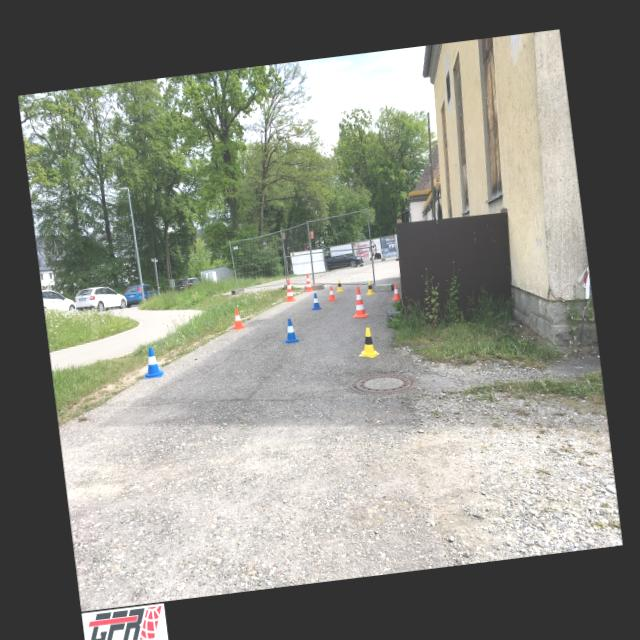blue_cone: (140, 346, 164, 378), (280, 317, 300, 344), (310, 292, 321, 310)
large_orange_cone: (350, 285, 368, 318), (282, 278, 296, 302), (301, 272, 313, 292)
orange_cone: (230, 308, 244, 328), (389, 283, 401, 301), (325, 284, 336, 300)
yellow_cone: (356, 326, 380, 360), (364, 280, 374, 294), (334, 278, 344, 292)
